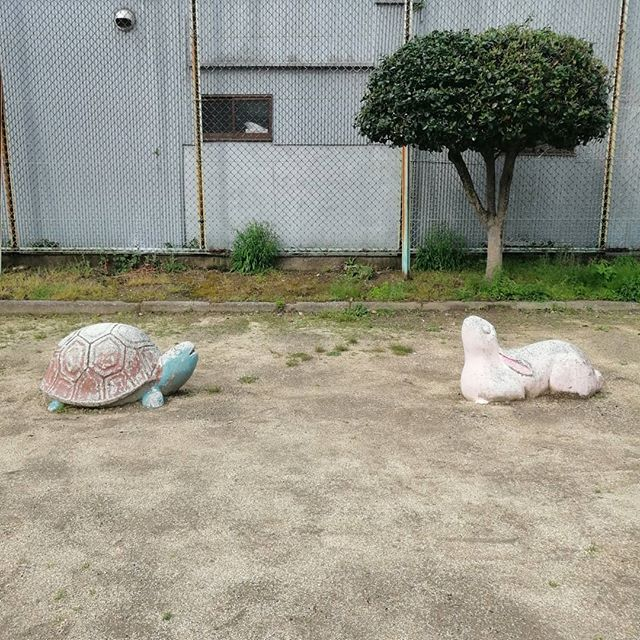tree: (351, 24, 611, 289)
